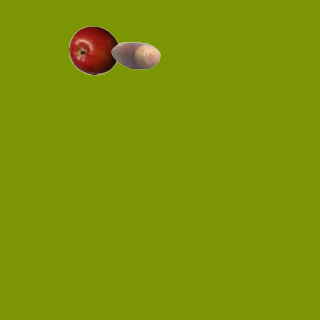Apple Braeburn: (68, 25, 118, 75)
Hazelnut: (110, 30, 160, 80)
